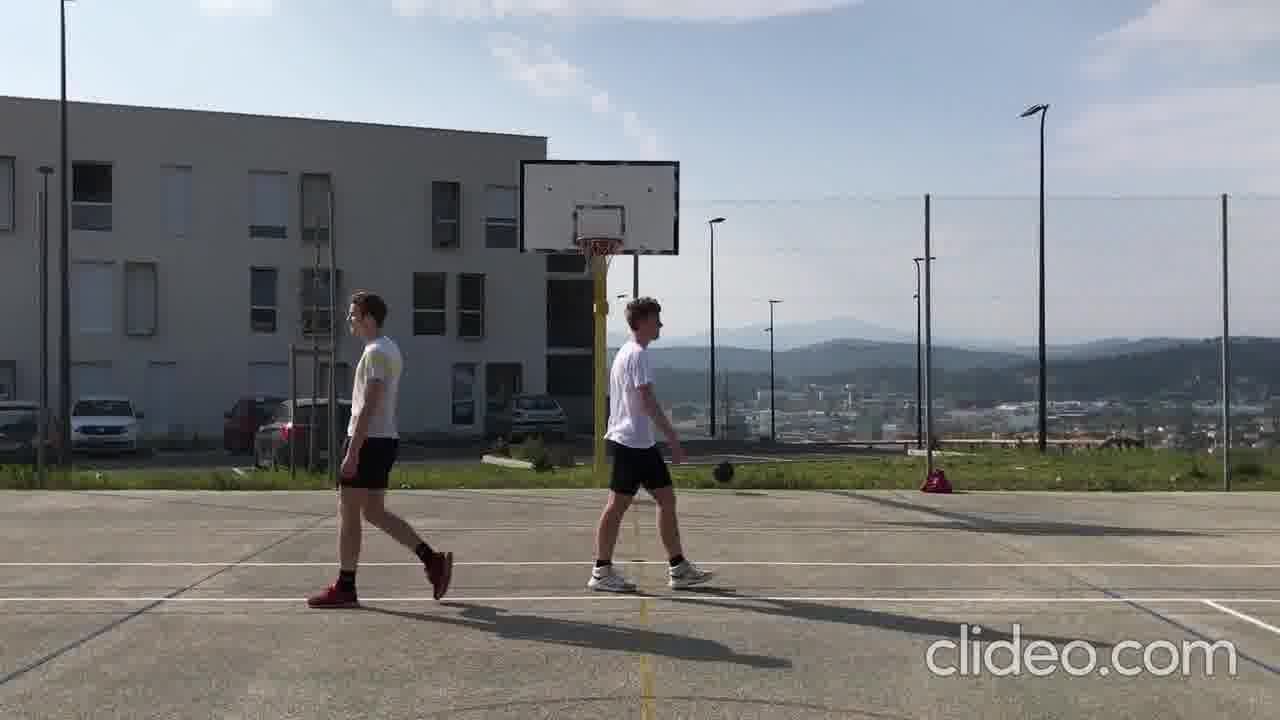jugador: (287, 278, 466, 624)
